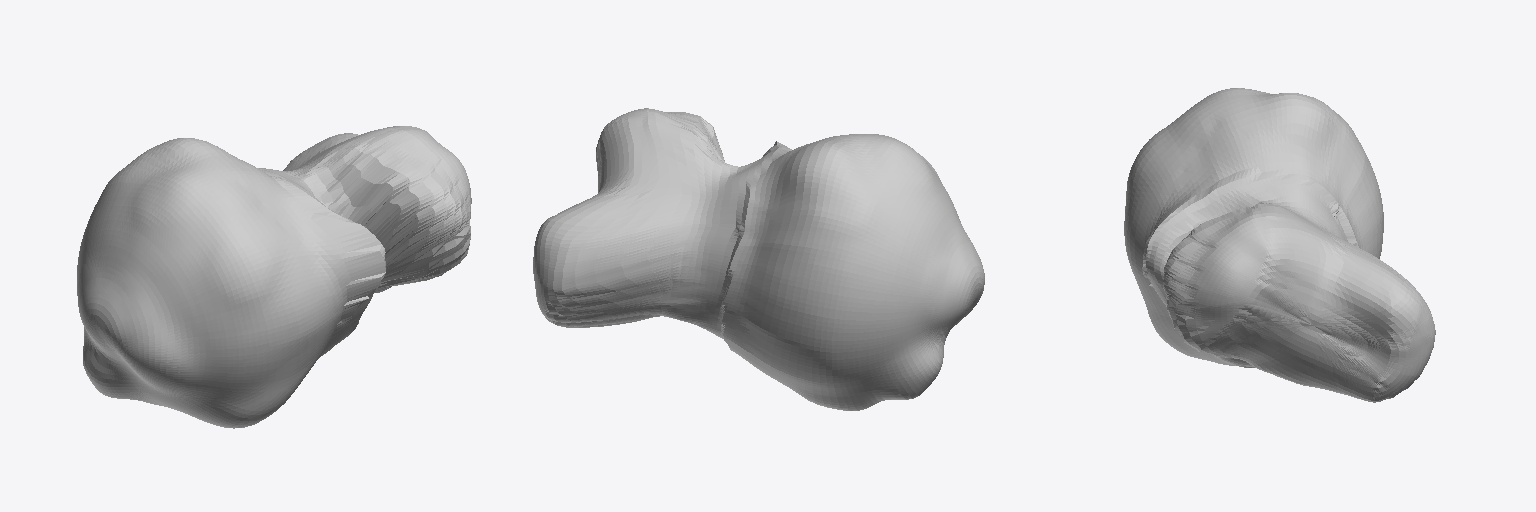
Rendered from potato.obj.
3 views of the same model, side by side, from view 1: azimuth 30°, elevation 25°; view 2: azimuth 150°, elevation 25°; view 3: azimuth 270°, elevation 25° (orthographic).
Parts seen in each view (by area): view 1: Sphere; view 2: Sphere; view 3: Sphere.
Boxes of the visible parts, box(x1,y1,x2,y2) form: Sphere: box(77, 126, 471, 428); Sphere: box(533, 108, 984, 410); Sphere: box(1124, 88, 1435, 402).
Bounding box in the file's own units: 3.15 × 2.08 × 2.29.